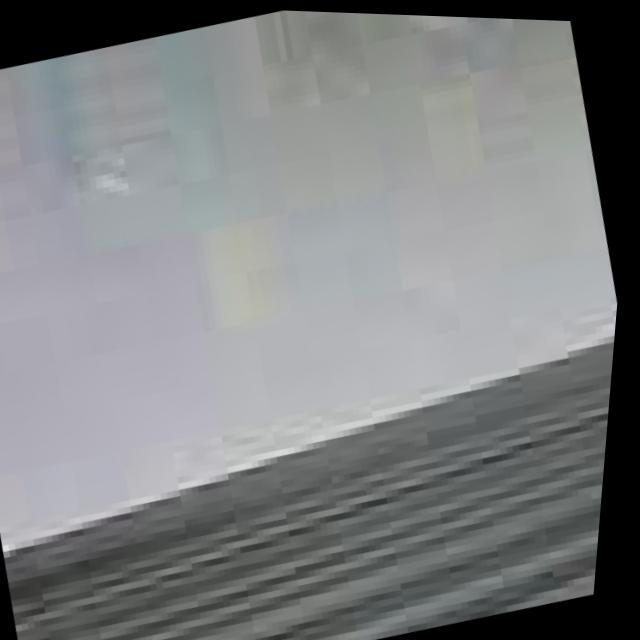metal-plates: (1, 9, 623, 640)
